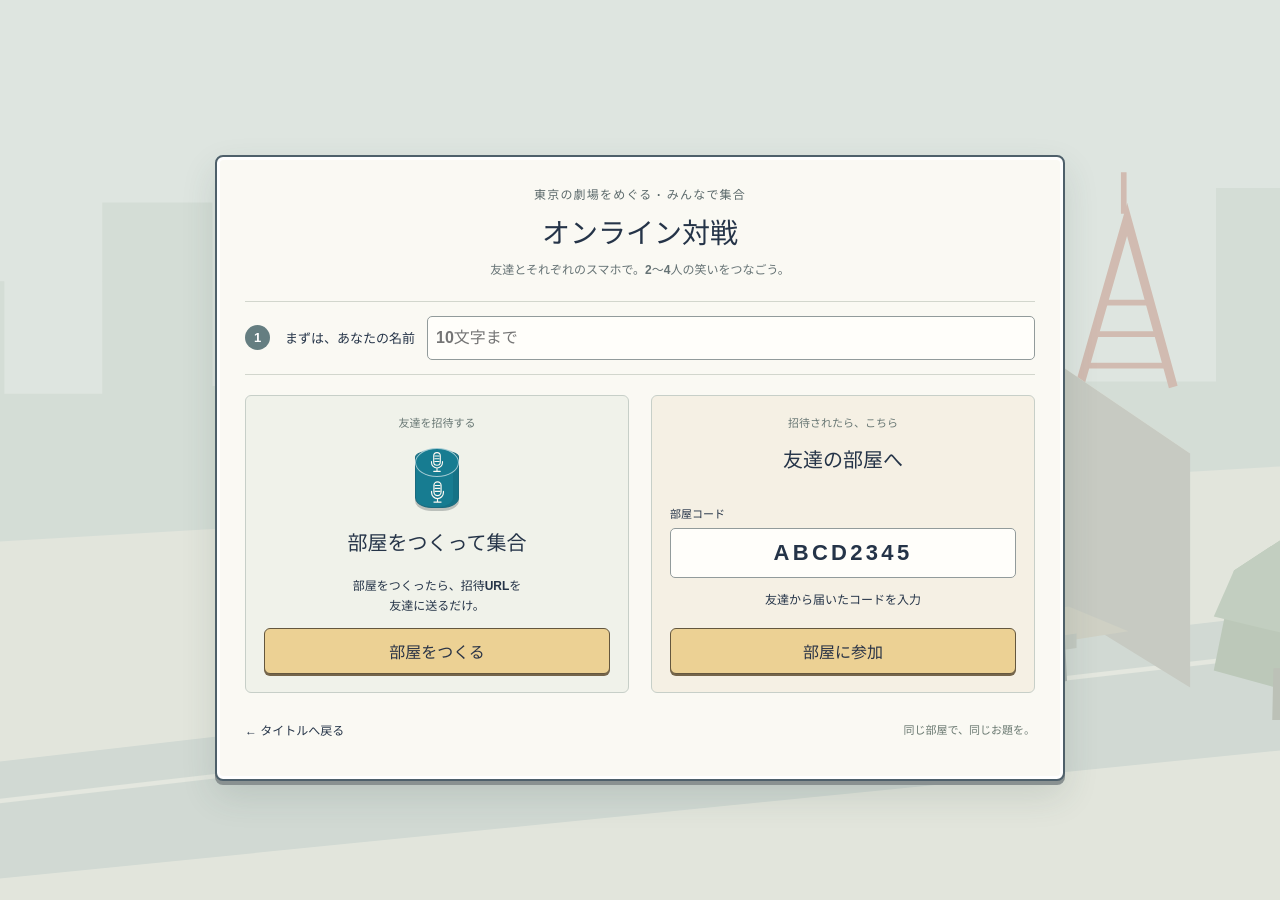
Scenario: online game UI › prefills the invite code and shows a useful server error
Type "花子" into the field labelled "名前" at {"x": 731, "y": 338}, box [427, 316, 1035, 360]
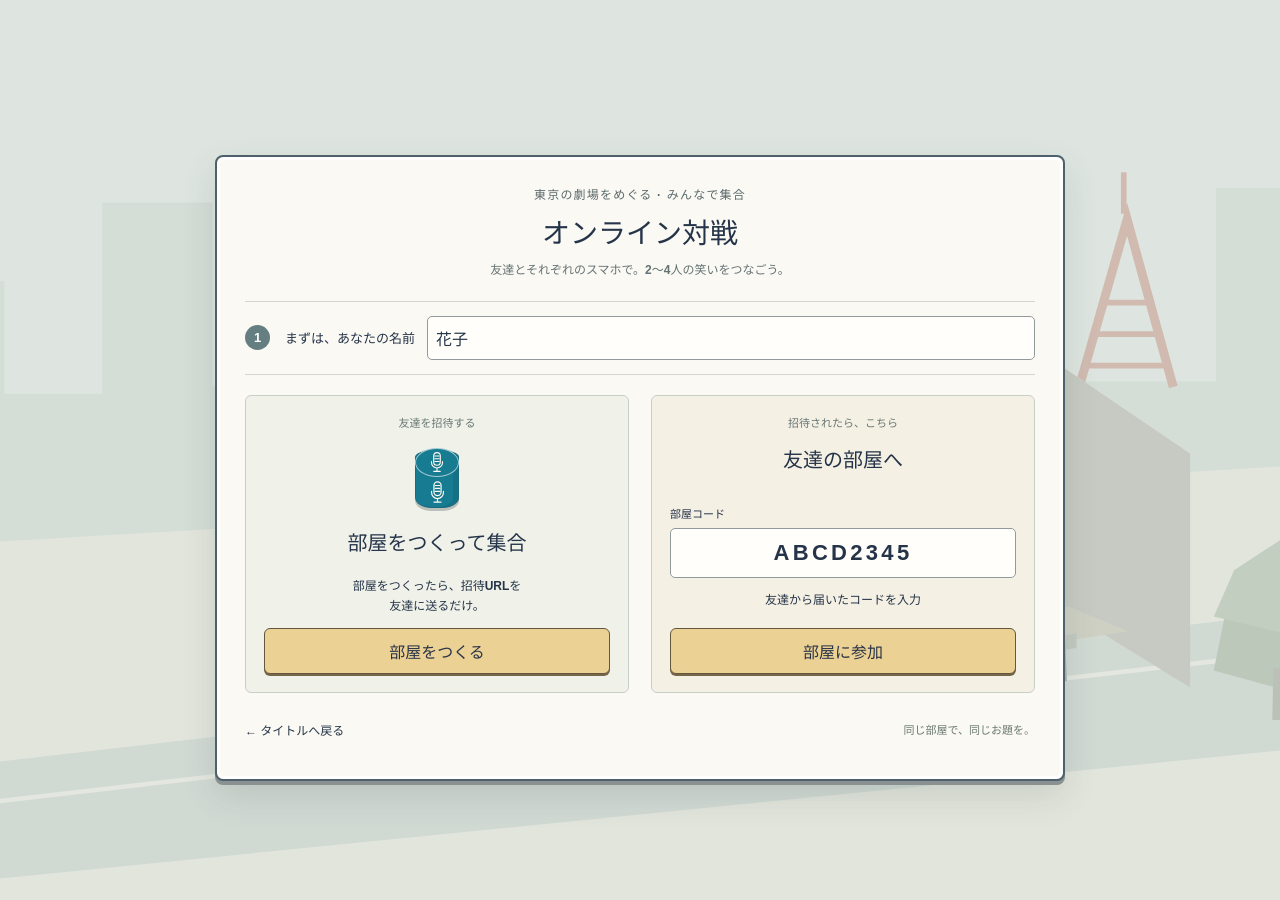
Expected: the field labelled "部屋コード" holds "ABCD2345", [670, 528, 1016, 578]
Click the button "部屋に参加" at {"x": 843, "y": 652}, box [670, 628, 1016, 674]
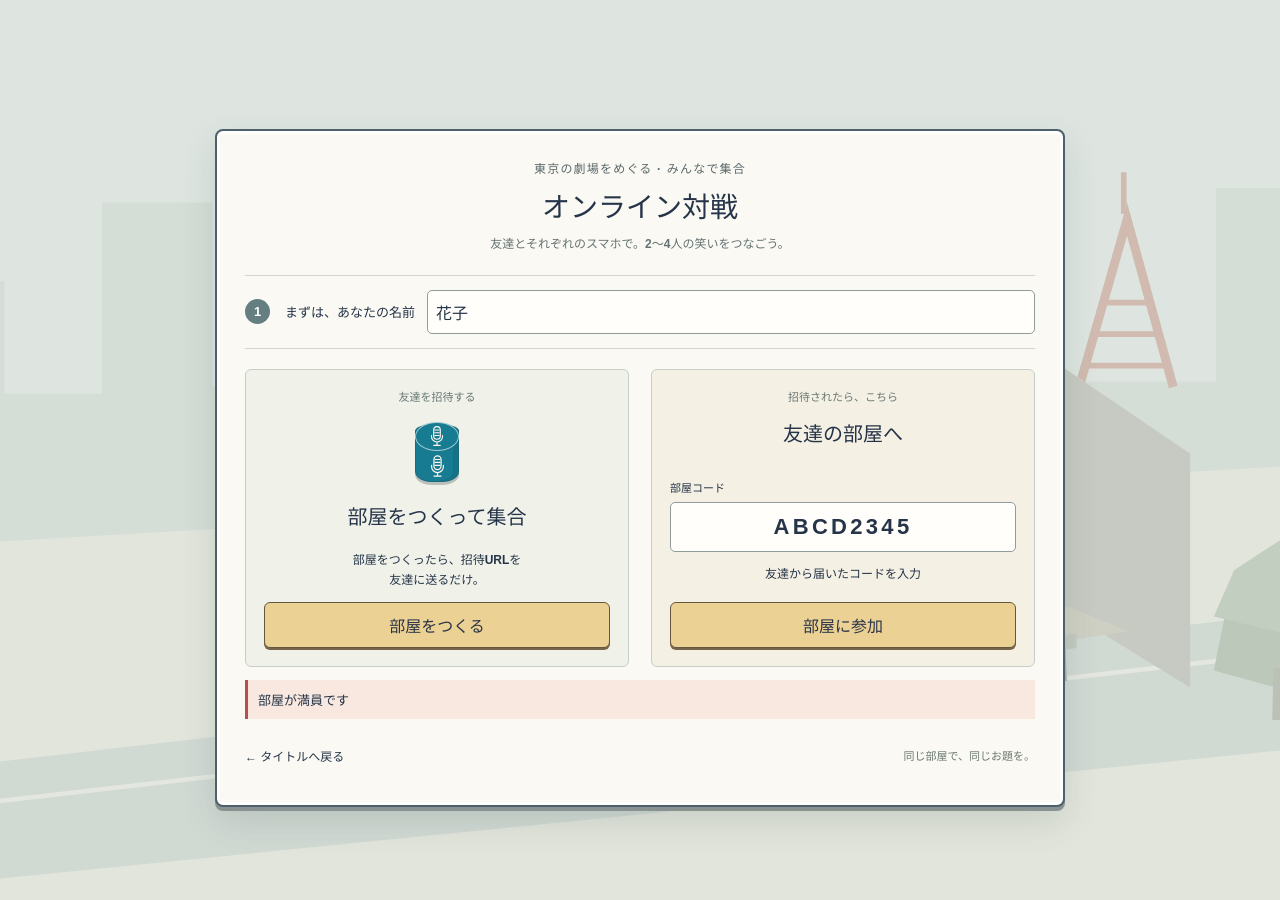
Now the message shows "部屋が満員", box [258, 694, 349, 708]
